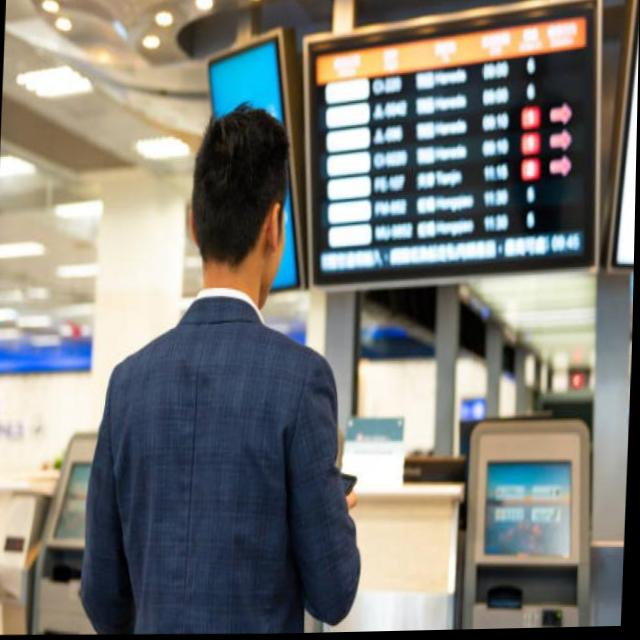no helmet: (182, 107, 293, 318)
